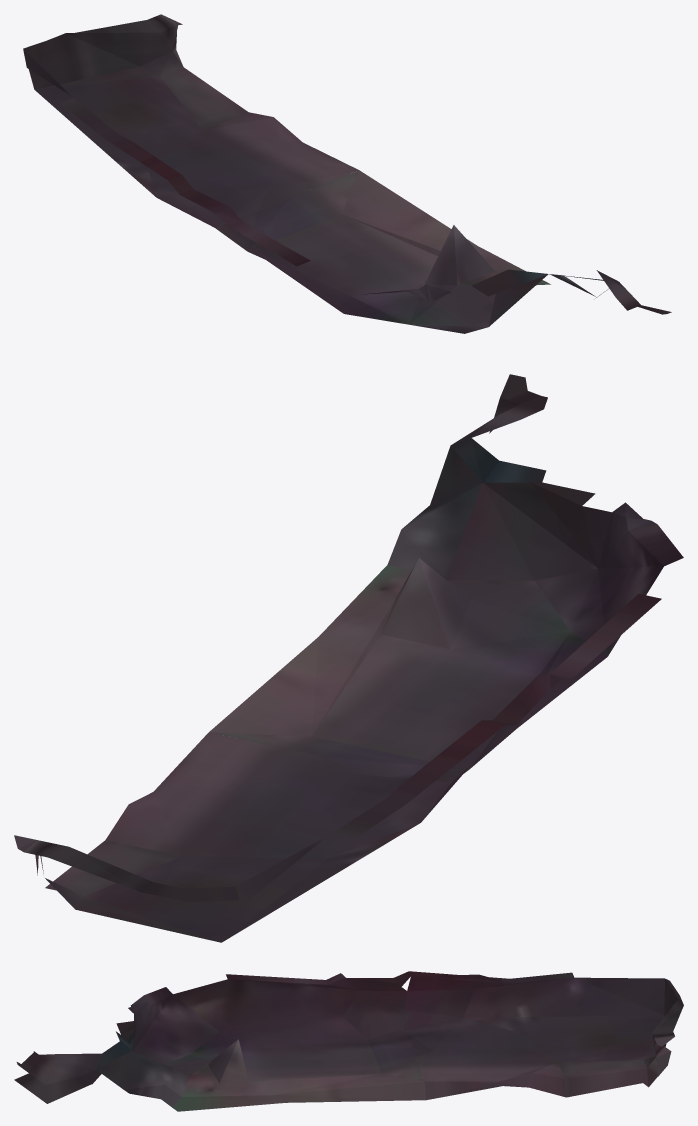
The picture shows the model from 3 angles, top to bottom: view 1: azimuth 30°, elevation 25°; view 2: azimuth 150°, elevation 25°; view 3: azimuth 270°, elevation 25°; orthographic projection. The views are drawn at different scales.
Visible parts, largest first — view 1: Mesh_0; view 2: Mesh_0; view 3: Mesh_0.
Boxes of the visible parts, bbox=[...] form: Mesh_0: bbox=[23, 14, 671, 333]; Mesh_0: bbox=[14, 374, 683, 942]; Mesh_0: bbox=[14, 971, 683, 1111].
Size of the model in its own units: 7.65 by 2.27 by 22.82.
Materials: 1 (1 with a texture image).
